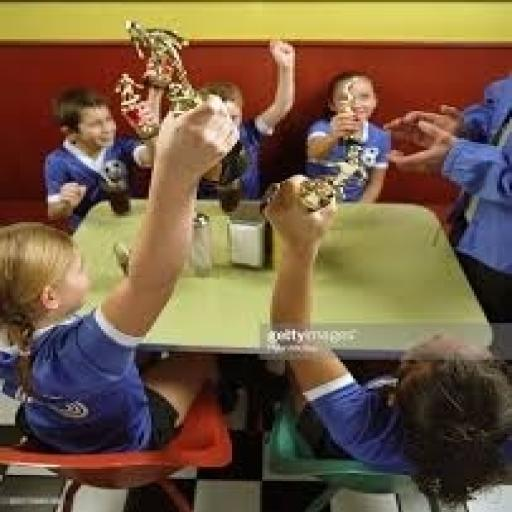clapping: (0, 92, 242, 456), (258, 173, 510, 510), (38, 84, 156, 232), (300, 68, 394, 203)
